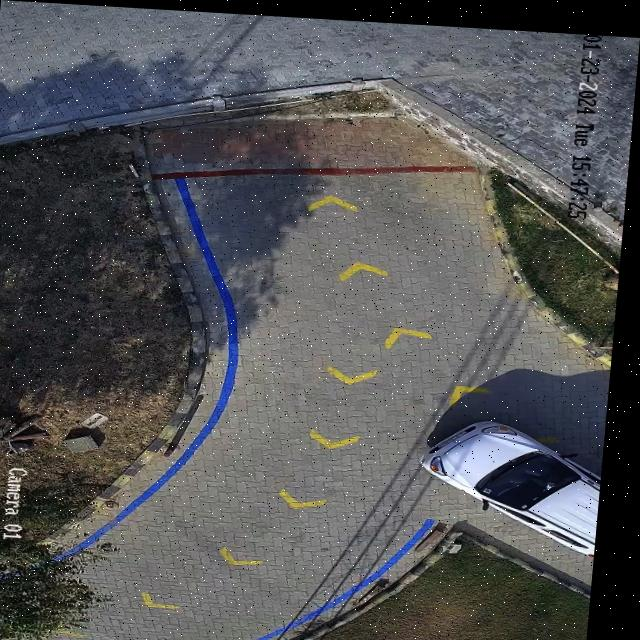car: (425, 413, 609, 549)
